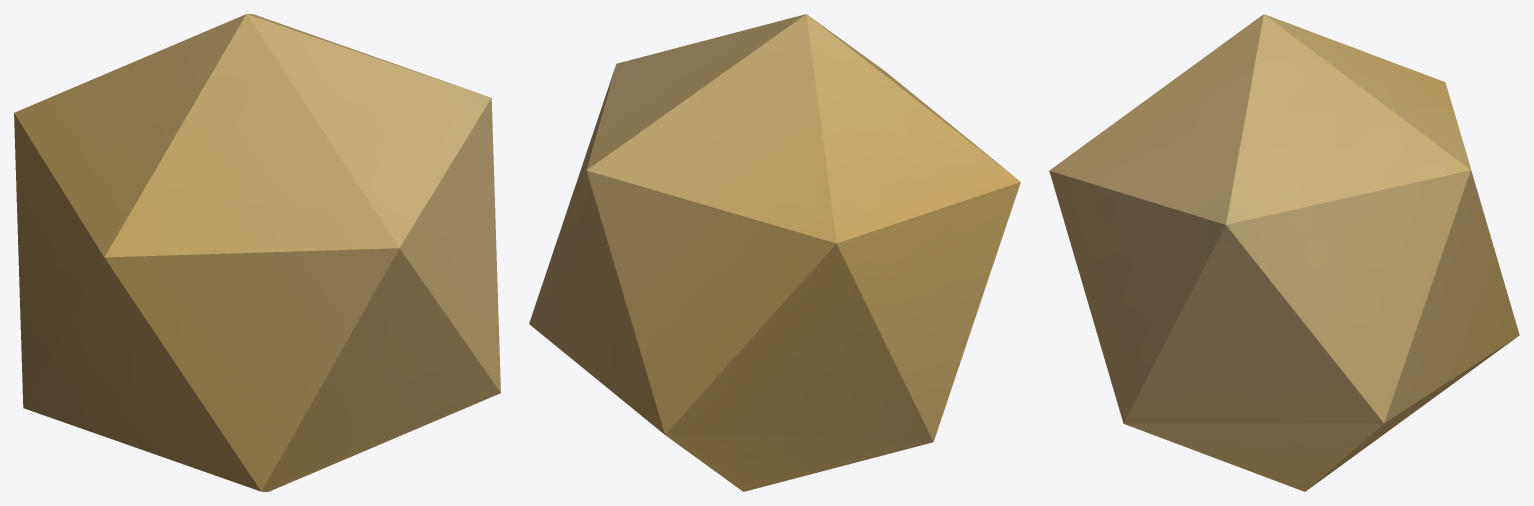
Rendered from potato0.glb.
3 renders of one model, left to right at view 1: azimuth 30°, elevation 25°; view 2: azimuth 150°, elevation 25°; view 3: azimuth 270°, elevation 25°, orthographic. The views are drawn at different scales.
Visible parts, largest first — view 1: Potato0; view 2: Potato0; view 3: Potato0.
Boxes of the visible parts, left/top/right/bottom form: Potato0: left=14, top=14, right=500, bottom=491; Potato0: left=529, top=14, right=1020, bottom=491; Potato0: left=1049, top=14, right=1519, bottom=491.
Bounding box in the file's own units: 0.0959 × 0.1113 × 0.1036.
1 material, 1 textured.
